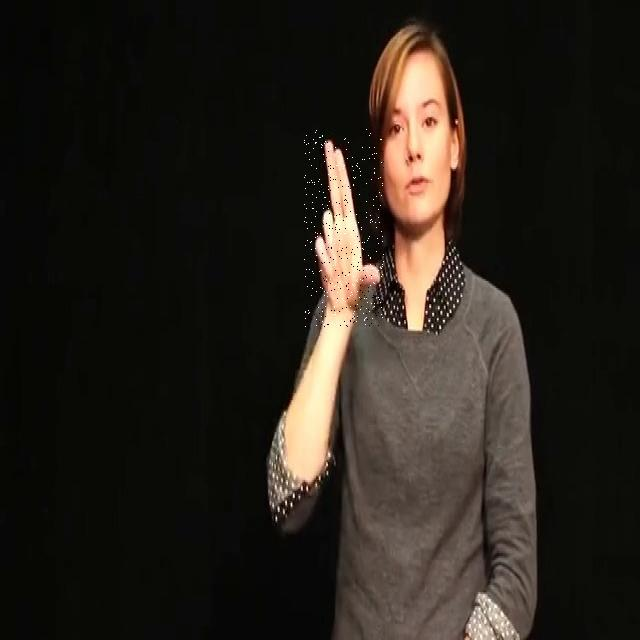no: (304, 129, 384, 327)
